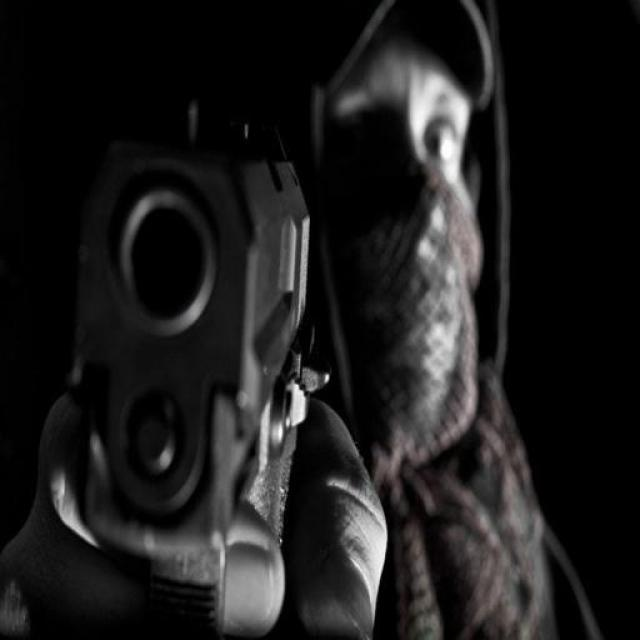pistol: (58, 65, 326, 640)
